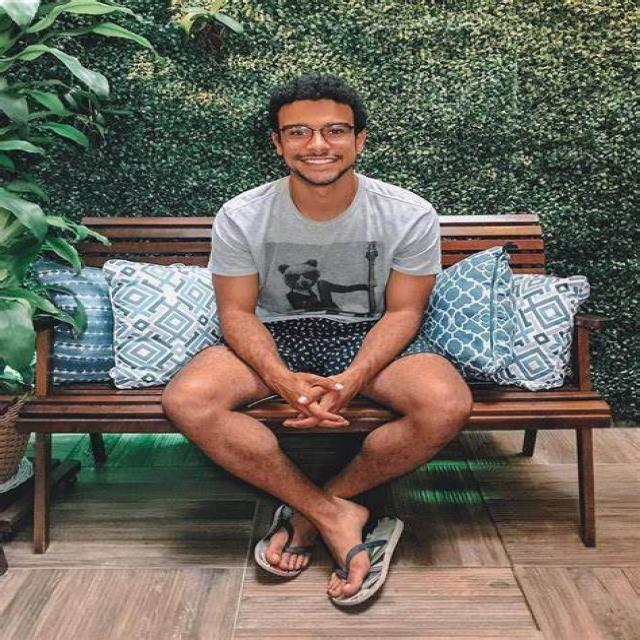No_Shoe: (323, 506, 386, 608), (251, 517, 321, 582)
Person: (222, 55, 422, 617)
